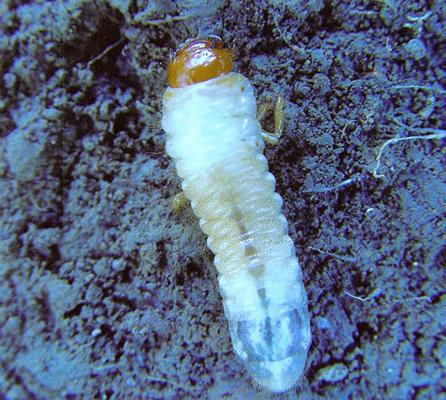grub: (158, 34, 335, 400)
